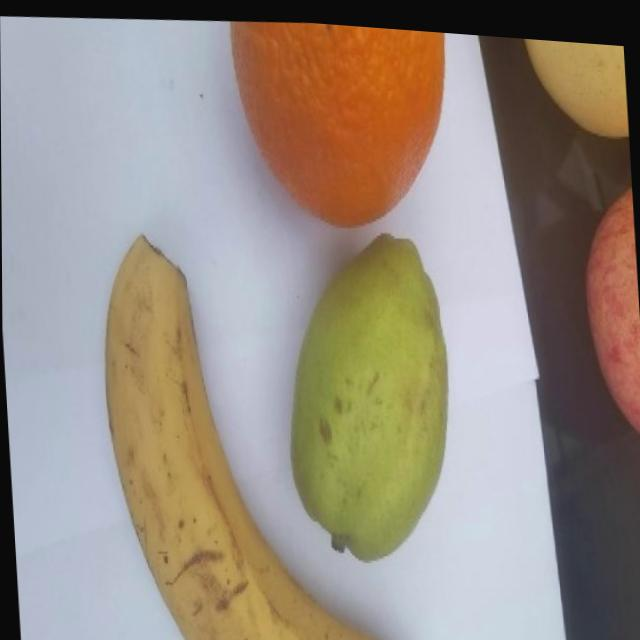Apple: (579, 173, 640, 432)
Banana: (95, 216, 410, 640)
Orange: (230, 13, 456, 237)
